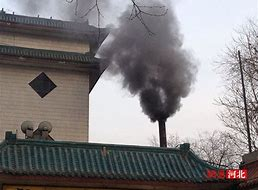smoke: (104, 1, 198, 120)
